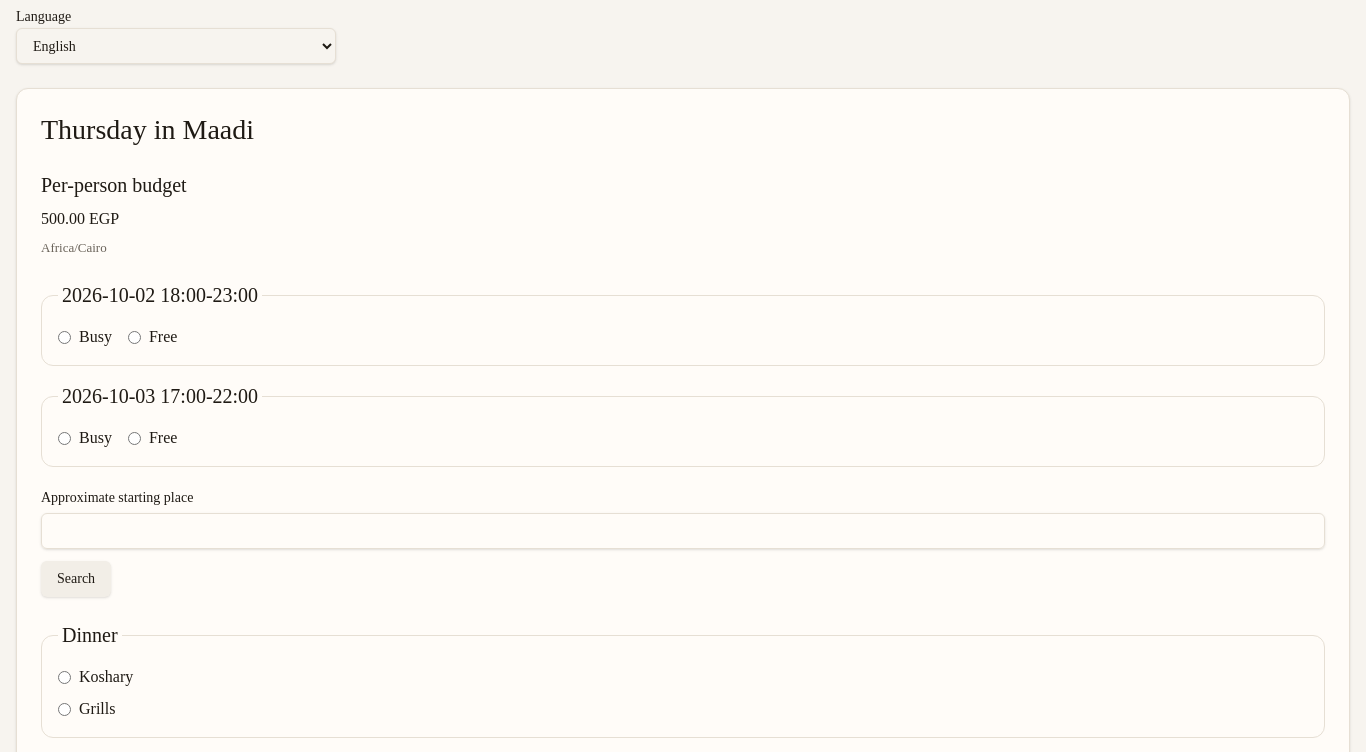
Test: ResponseForm attempt_in_progress › T-001-34/AC-1 409 attempt_in_progress shows no save error, refetches the response and shows it
Expected: the search field labelled "Approximate starting place" is shown, 41,513 -> 1325,549
Click the radio button labelled "Busy" below "2026-10-02".
click(64, 337)  # box 58,330 -> 71,344
(page scrolled)
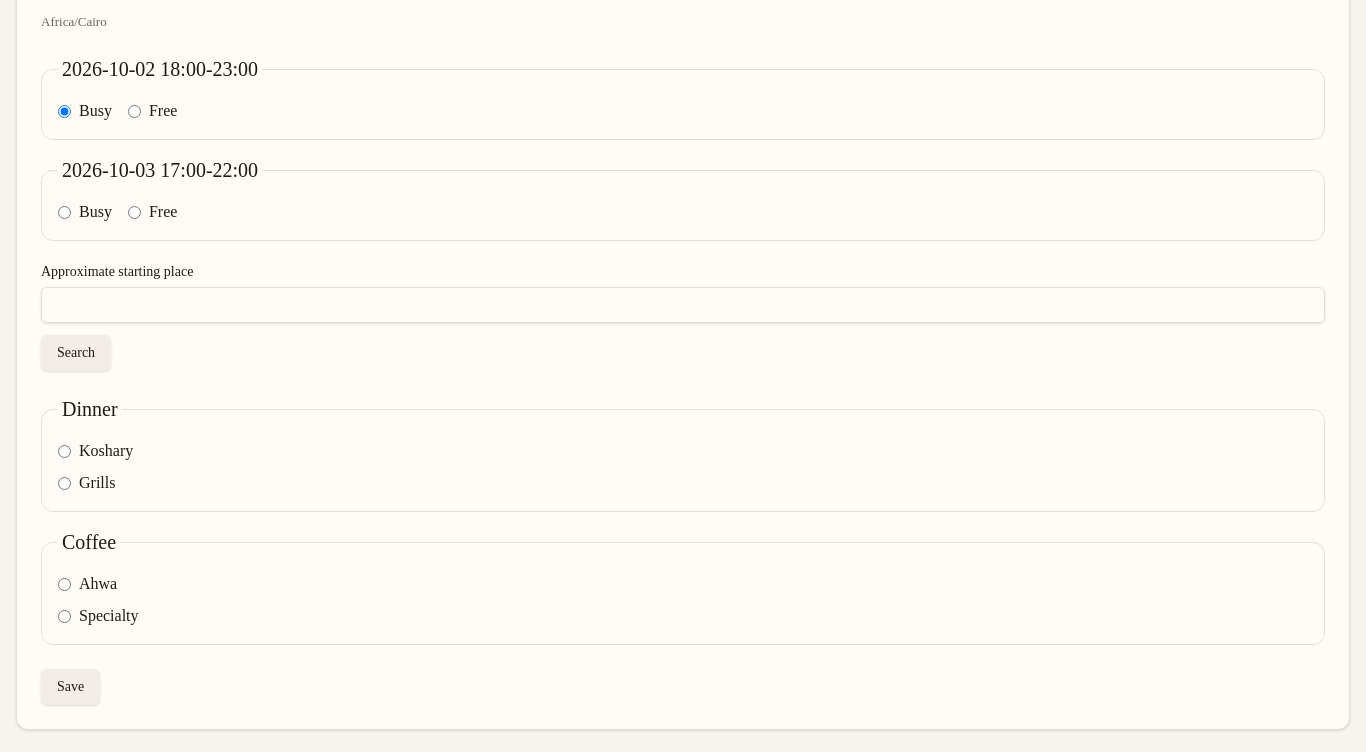
Click the button "Save".
click(71, 687)  # box 41,669 -> 100,705
(page scrolled)
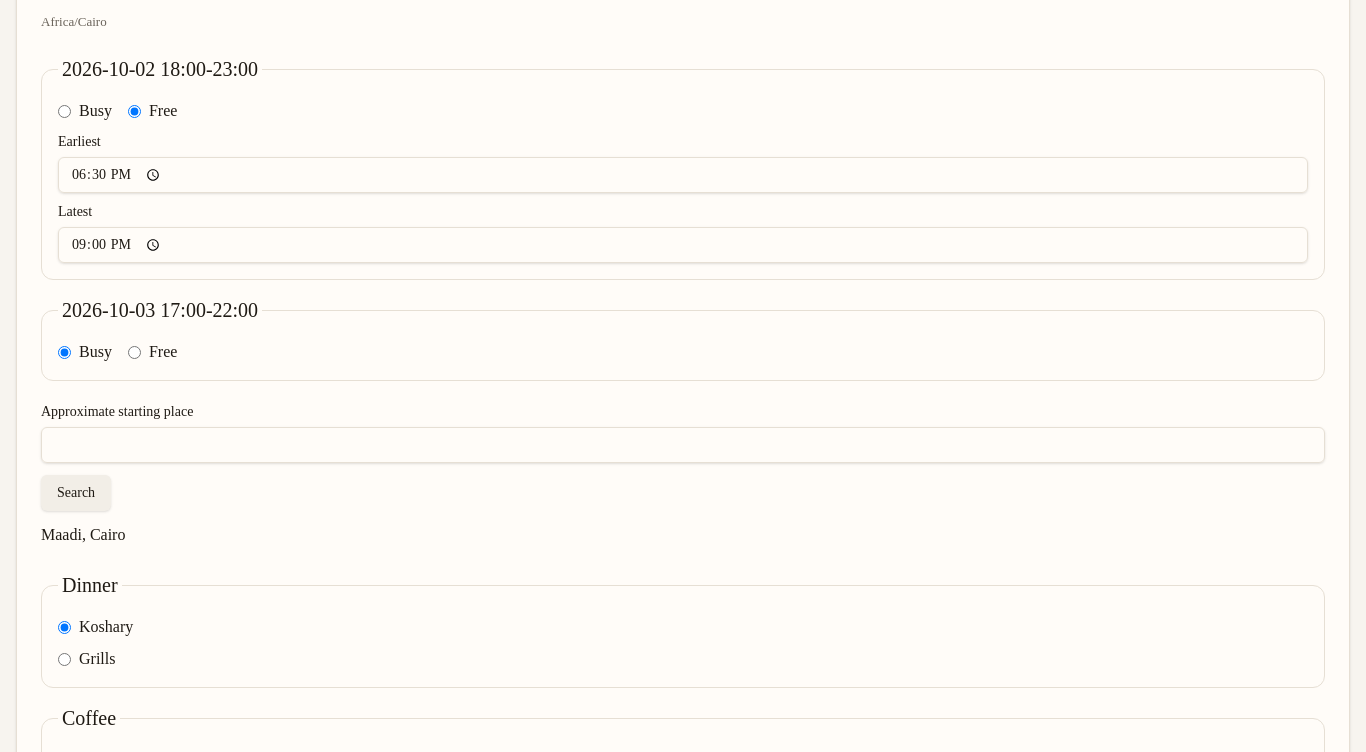
Expected: the search field labelled "Approximate starting place" is enabled, 41,427 -> 1325,463
Expected: the text "Maadi, Cairo" is shown, 41,526 -> 125,543
